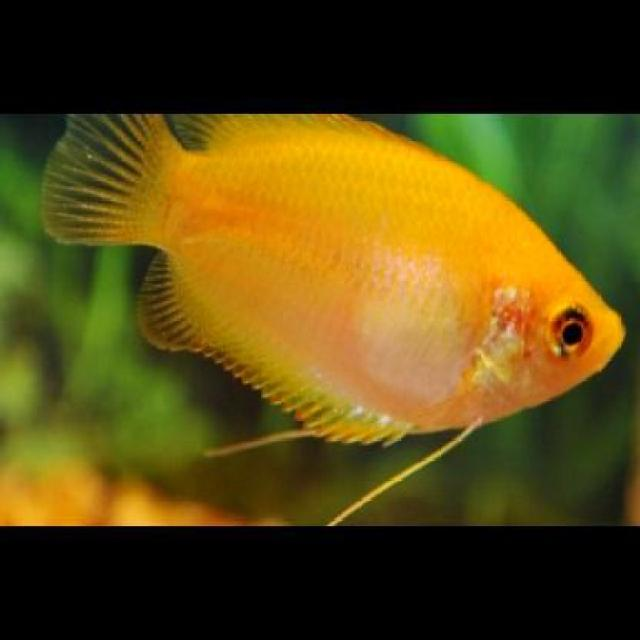Gourami: (40, 112, 625, 454)
